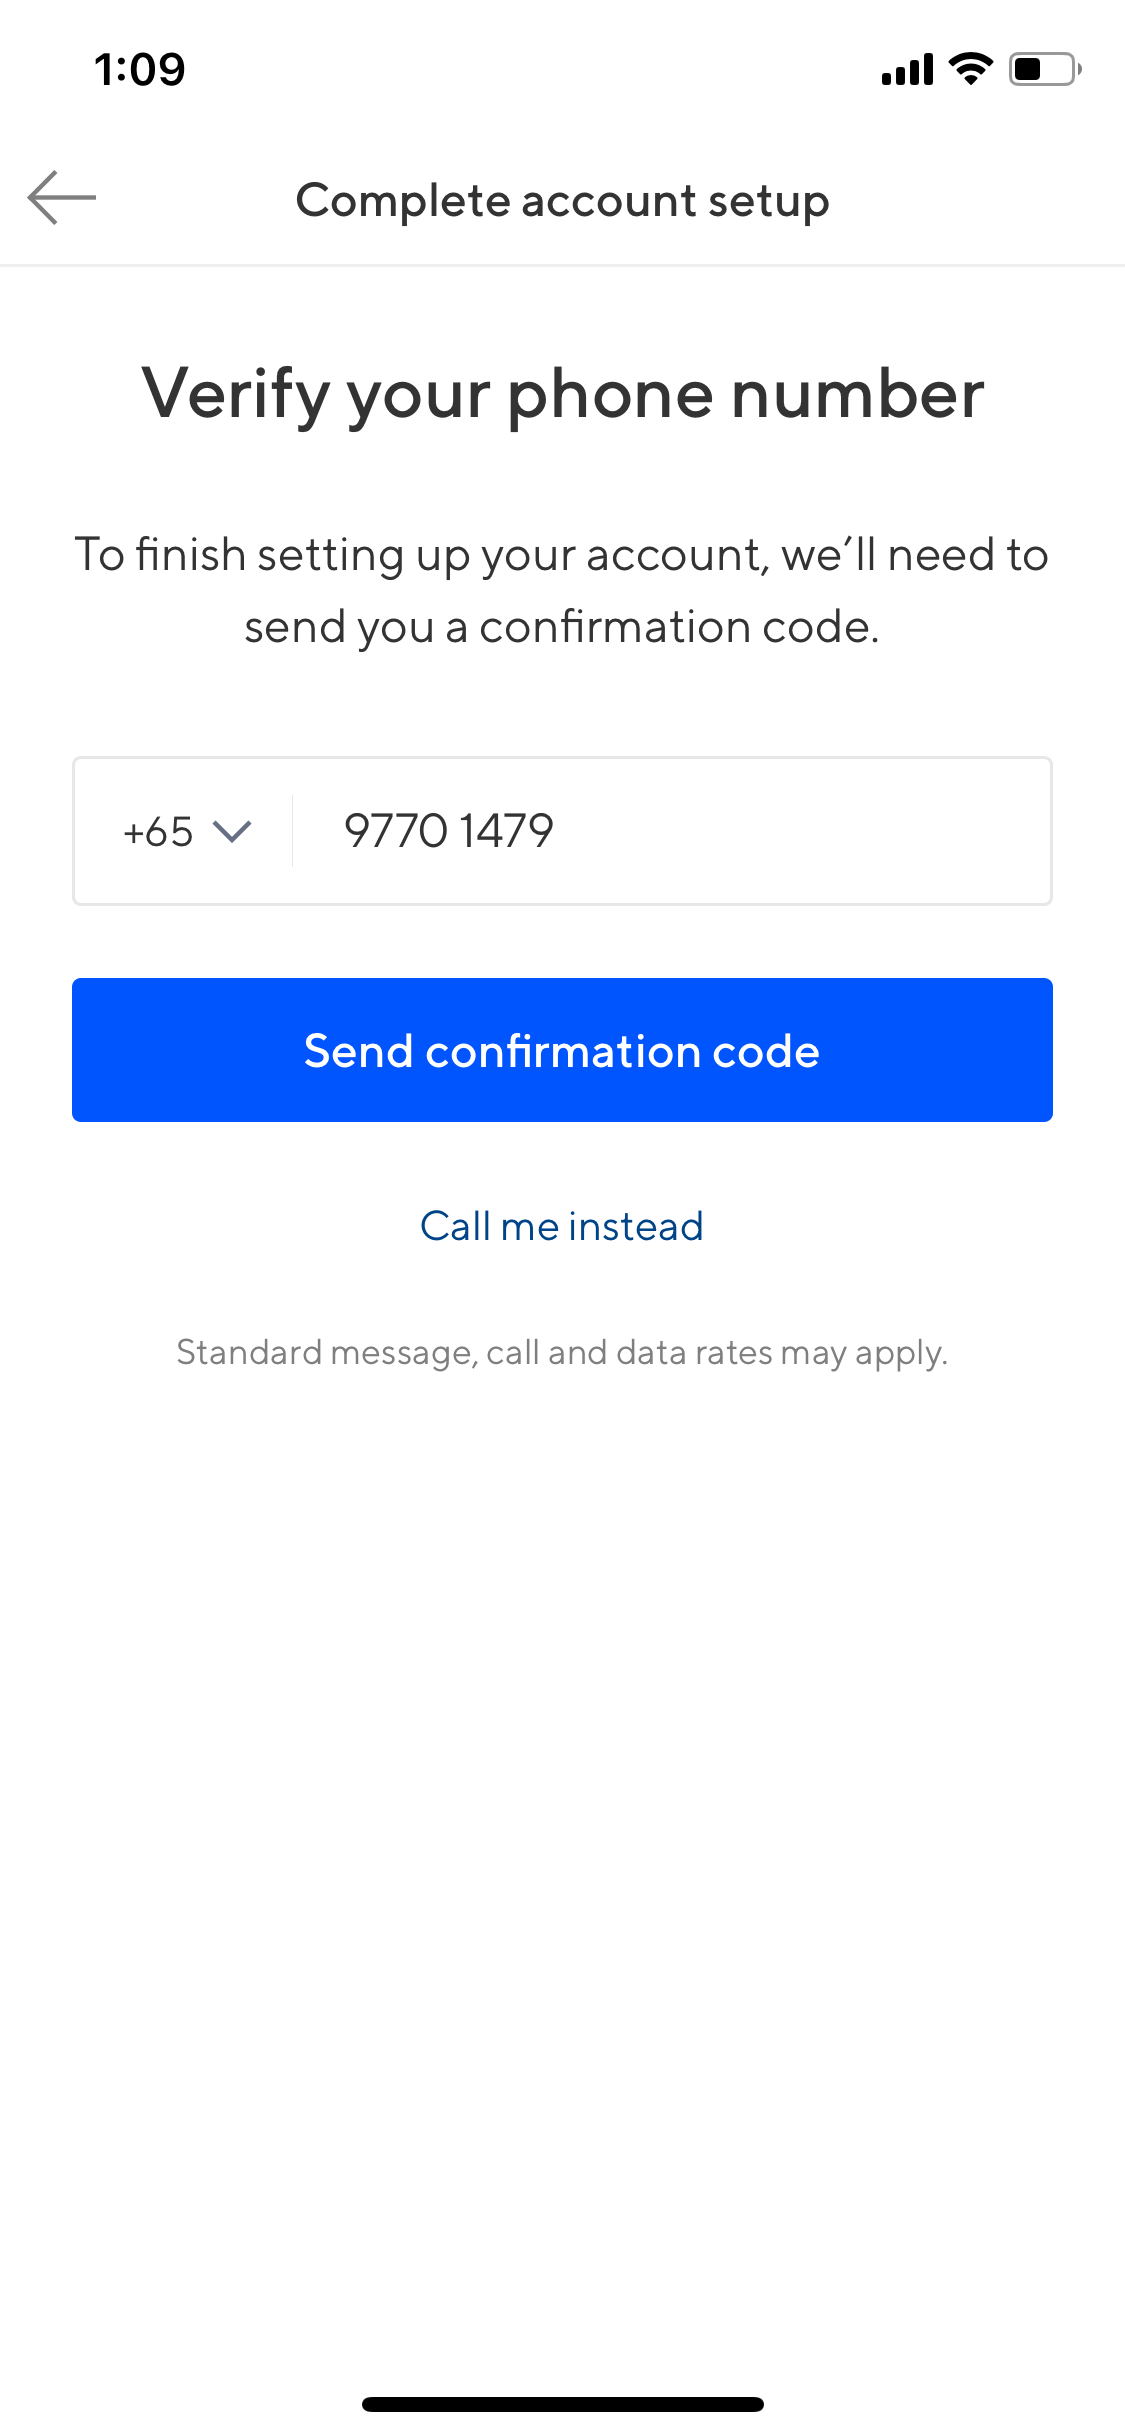Buttons: (61, 962, 1064, 1139), (381, 1168, 741, 1286), (6, 130, 131, 250)
Text Fields: (54, 738, 1063, 923)
